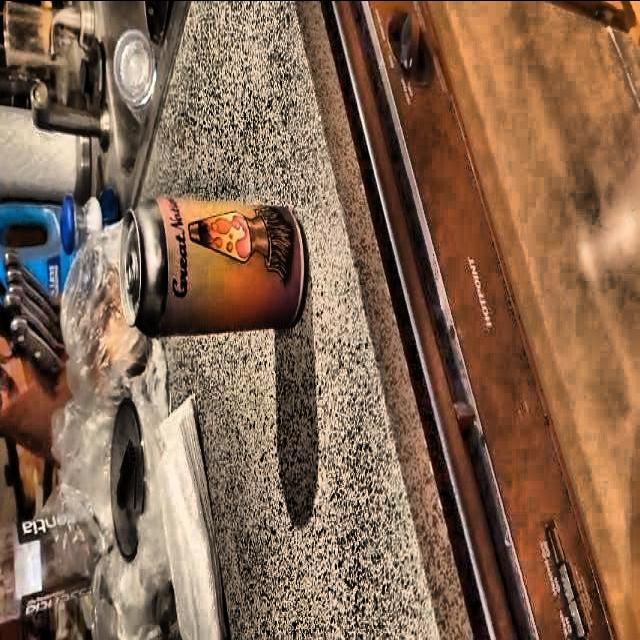Aluminum Can: (118, 188, 315, 341)
